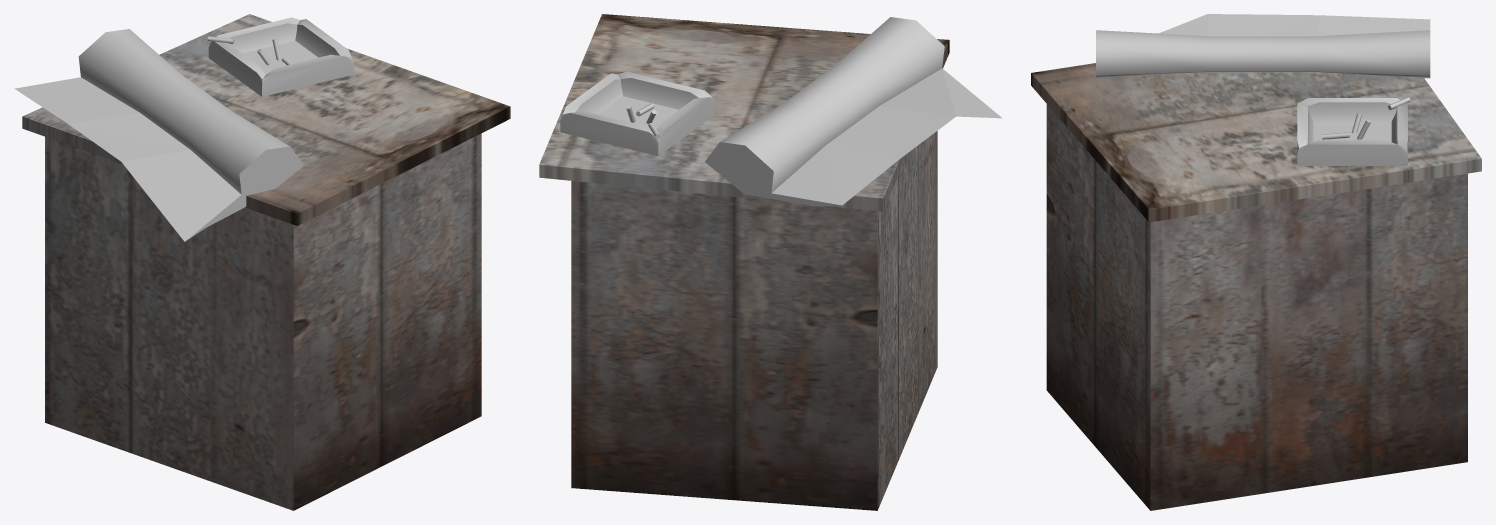
The model's file is EstanteLiving.FBX.
3 views of the same model, side by side, from view 1: azimuth 30°, elevation 25°; view 2: azimuth 150°, elevation 25°; view 3: azimuth 270°, elevation 25° (orthographic). The views are drawn at different scales.
Visible parts, largest first — view 1: MesaVelador, Diario, Cenicero; view 2: MesaVelador, Diario, Cenicero; view 3: MesaVelador, Diario, Cenicero.
Part boxes in pixels (x1,y1,x2,y2): MesaVelador: (22, 14, 510, 510); Diario: (14, 29, 304, 241); Cenicero: (207, 17, 354, 96); MesaVelador: (539, 14, 949, 510); Diario: (705, 17, 1002, 206); Cenicero: (560, 71, 714, 155); MesaVelador: (1031, 63, 1481, 510); Diario: (1096, 14, 1430, 78); Cenicero: (1297, 97, 1410, 165).
Bounding box in the file's own units: 24.94 × 21.82 × 24.89.
